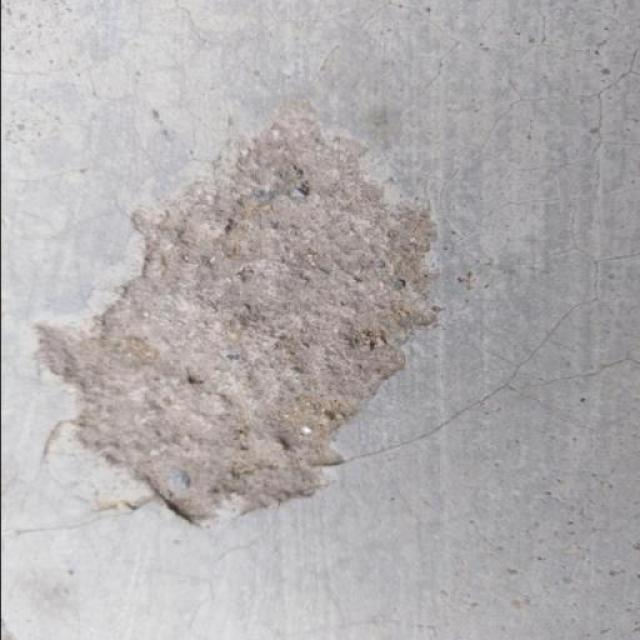D10: (38, 99, 439, 528)
